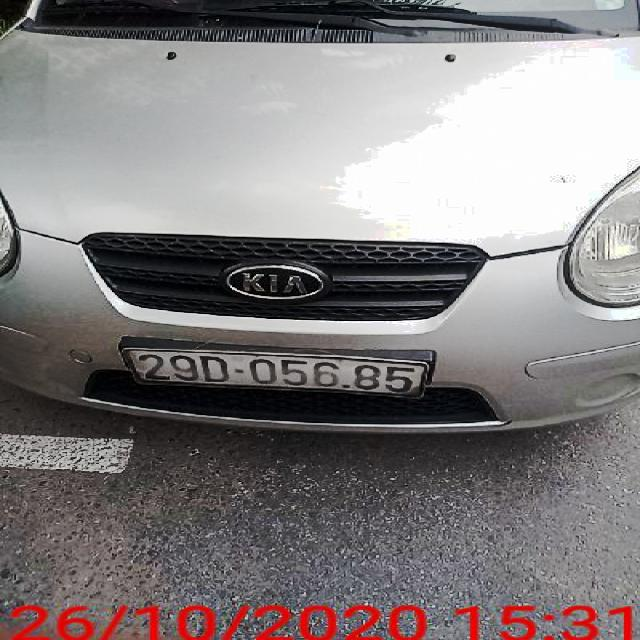license_plate: (122, 350, 424, 400)
